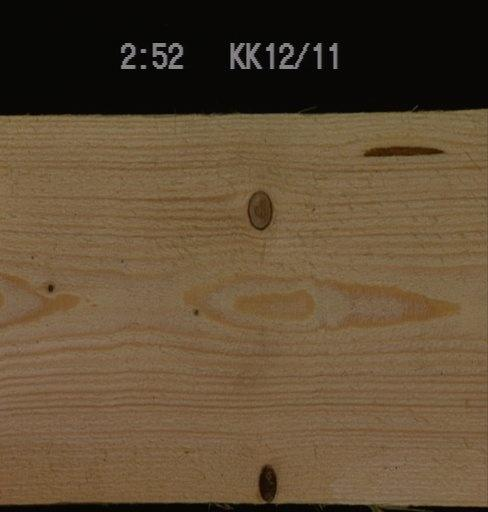dry_knot: (244, 187, 273, 230)
small_knot: (185, 301, 206, 323), (43, 278, 57, 298)
